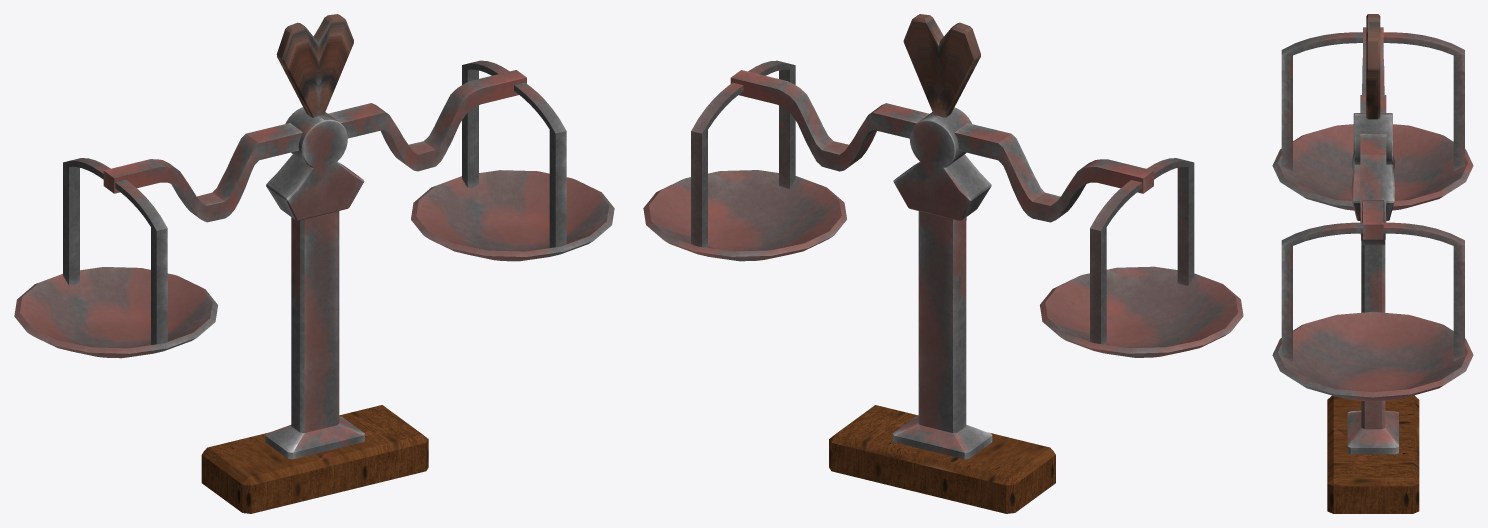
The model's file is Balança.fbx.
3 views of the same model, side by side, from view 1: azimuth 30°, elevation 25°; view 2: azimuth 150°, elevation 25°; view 3: azimuth 270°, elevation 25° (orthographic). The views are drawn at different scales.
Visible parts, largest first — view 1: Circle.005; view 2: Circle.005; view 3: Circle.005.
Part boxes in pixels (bbox=[...]): Circle.005: bbox=[14, 14, 614, 513]; Circle.005: bbox=[643, 14, 1243, 513]; Circle.005: bbox=[1272, 14, 1473, 513].
Size of the model in its own units: 77.14 by 58.32 by 23.91.
